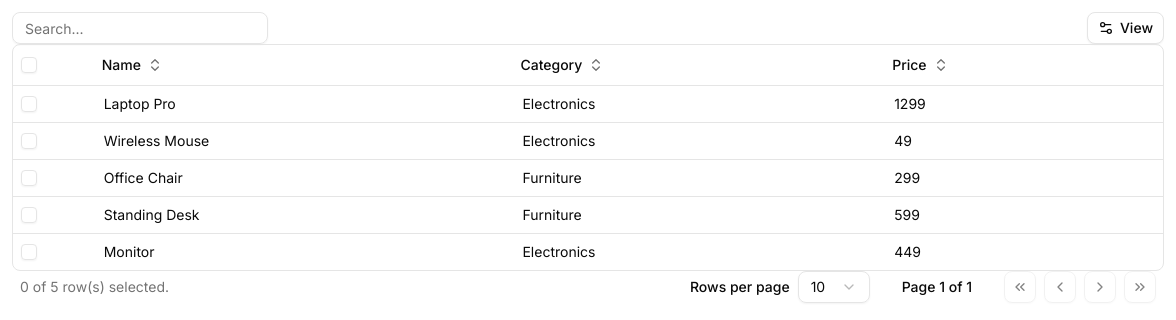
Test: DataTable row selection › selects a single row
The image size is (1176, 320).
Click the checkbox named "Select row" next to "Laptop Pro": (29, 104) [21, 96, 37, 112]
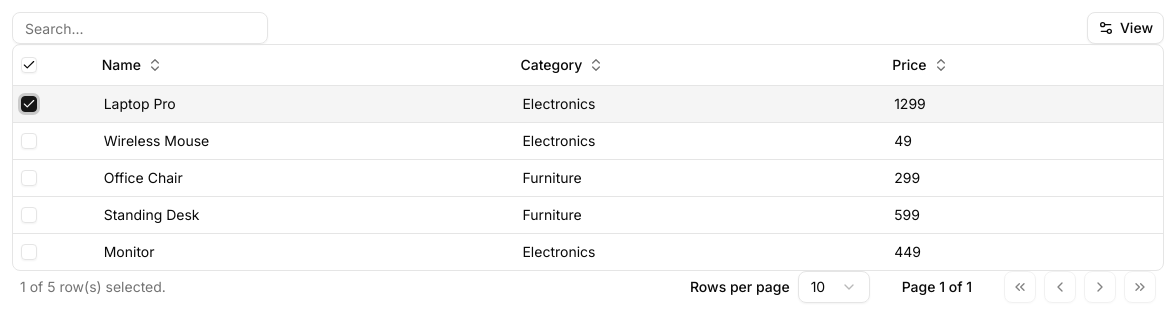
Now the text "1 of 5 row(s) selected." is shown, box [20, 278, 166, 294]
